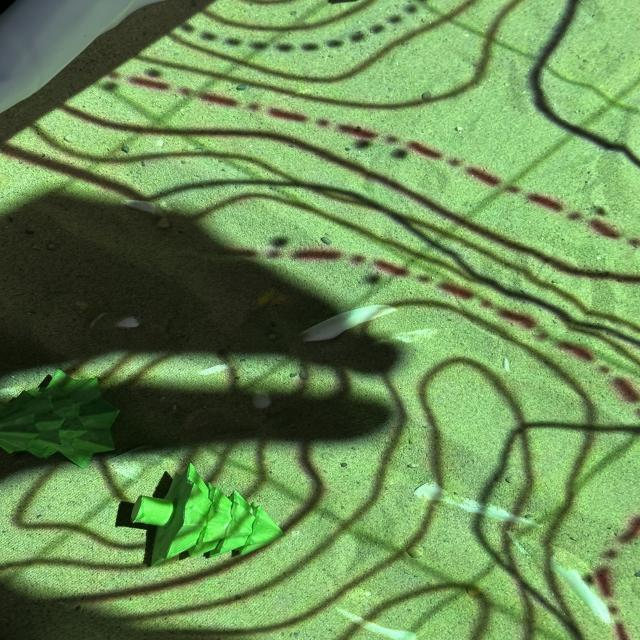tree: (114, 462, 284, 567), (0, 371, 121, 468)
